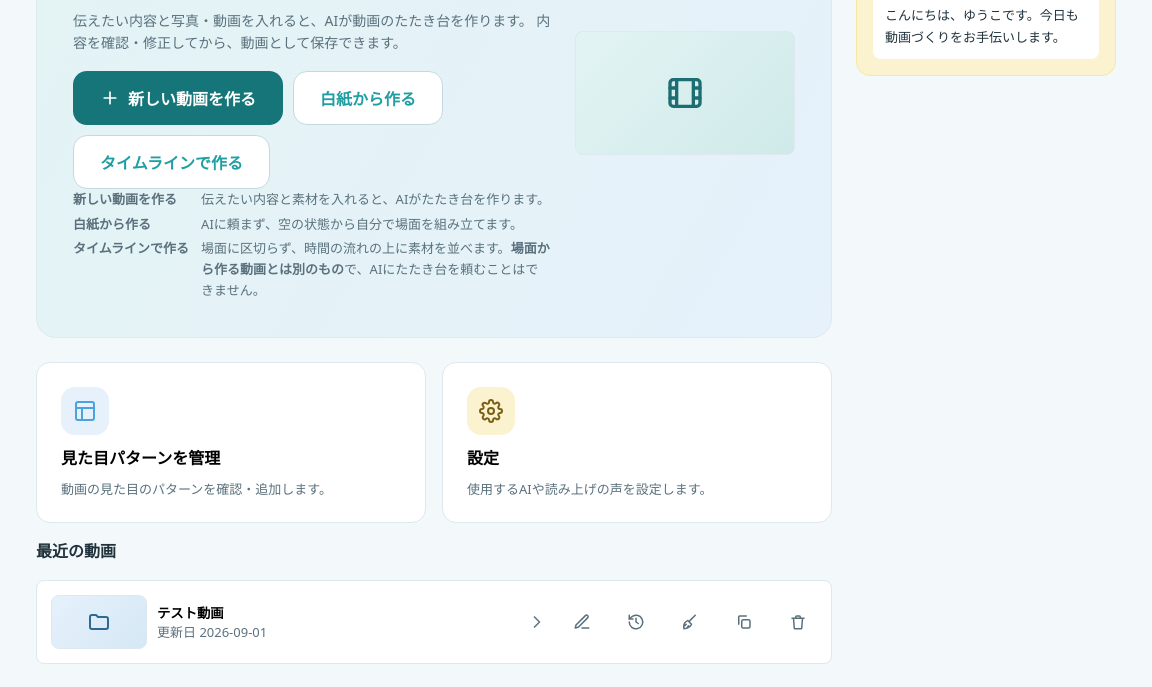
Test: 前の状態に戻す（#263 段階2） › 戻している間は、一覧のほかの動画を押せない
(page scrolled)
What coordinates should you click on to do the following:
click the button named "「テスト動画」を前の状態に戻す"
I would click on:
 (636, 622)
Its box is 617,603 -> 655,641.
(page scrolled)
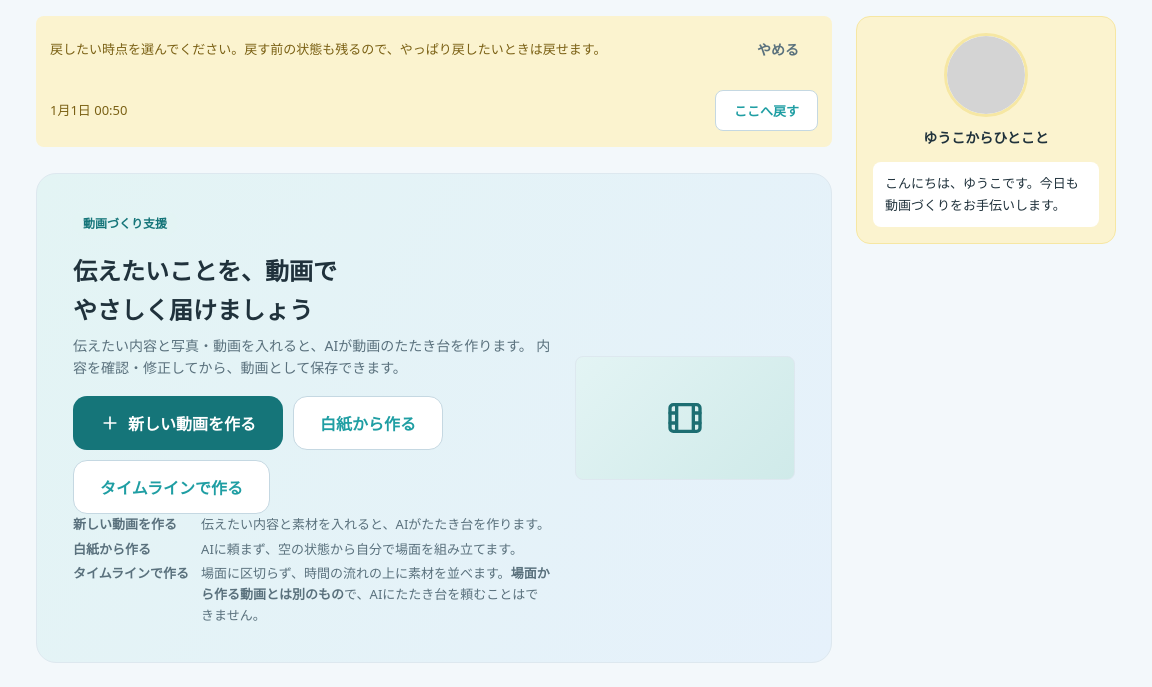
What coordinates should you click on to do the following:
click the button "ここへ戻す"
I would click on:
 (766, 110)
Its box is 715,90 -> 818,131.
(page scrolled)
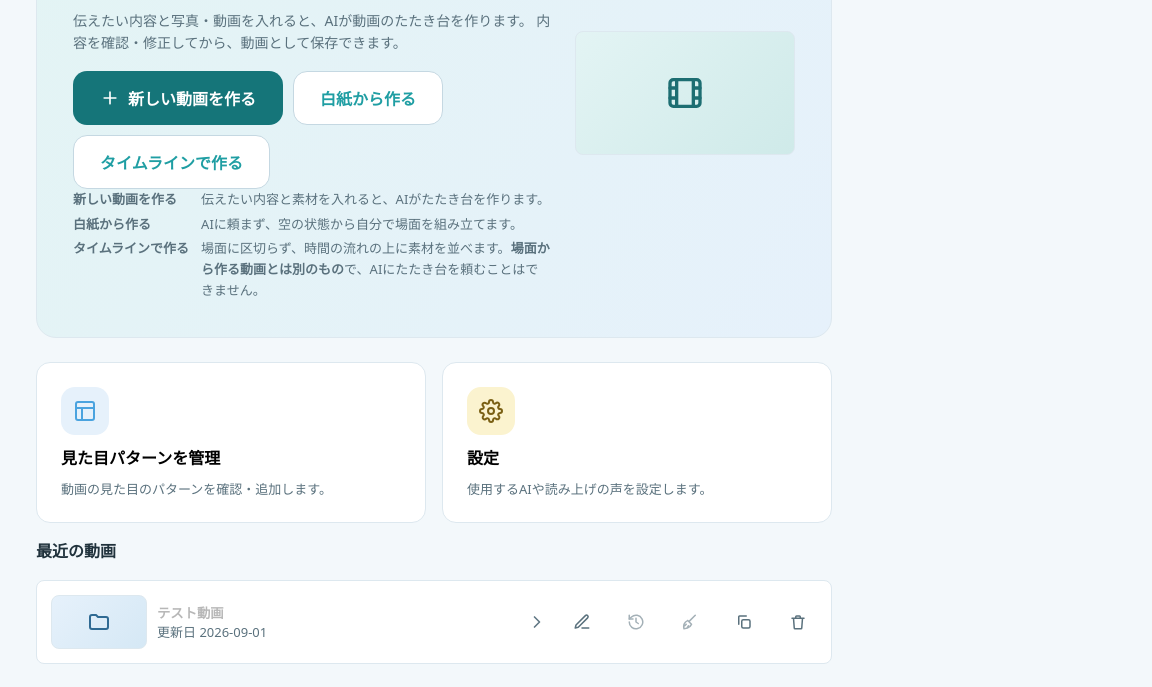
Now the button "テスト動画 更新日 2026-09-01" is disabled, box 51,595 -> 547,649
Now the button "ここへ戻す" is gone
